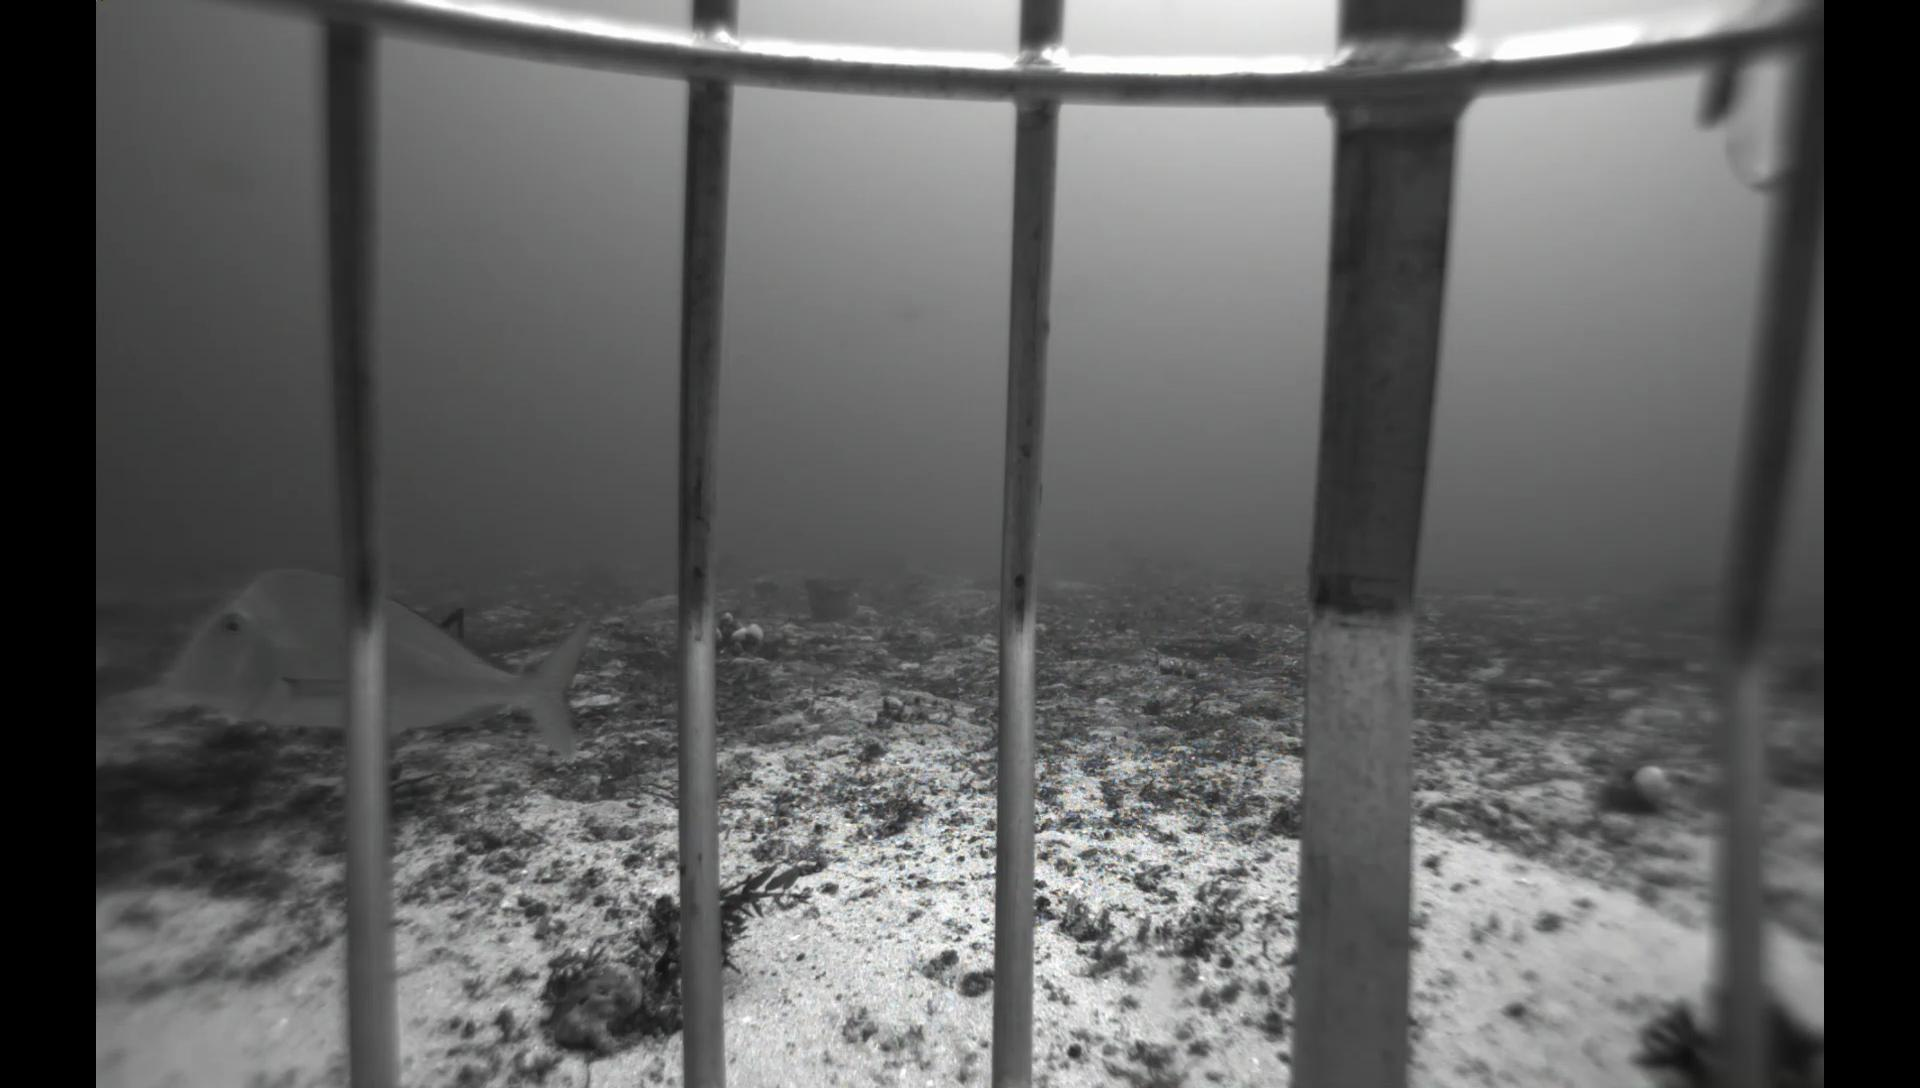CALAMUSNODOSUS-170210608: (145, 562, 603, 770)
CHAETODONOCELLATUS-170260307: (874, 576, 899, 596)
EPINEPHELUSMORIO-170021211: (427, 597, 473, 651)
